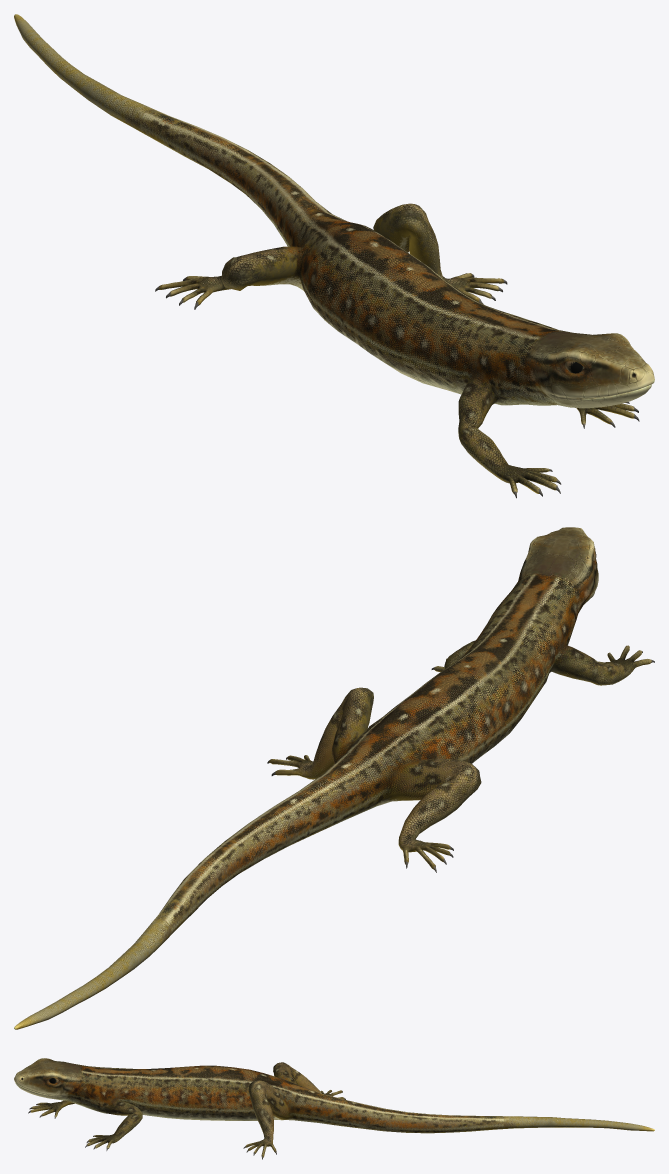
File: Standing31.obj
3 renders of one model, top to bottom at view 1: azimuth 30°, elevation 25°; view 2: azimuth 150°, elevation 25°; view 3: azimuth 270°, elevation 25°, orthographic. The views are drawn at different scales.
Visible parts, largest first — view 1: Lizard; view 2: Lizard; view 3: Lizard.
Boxes of the visible parts, x1=… form: Lizard: x1=14, y1=14, x2=654, y2=498; Lizard: x1=14, y1=527, x2=654, y2=1029; Lizard: x1=14, y1=1058, x2=654, y2=1159.
Size of the model in its own units: 25.67 by 11.66 by 104.
